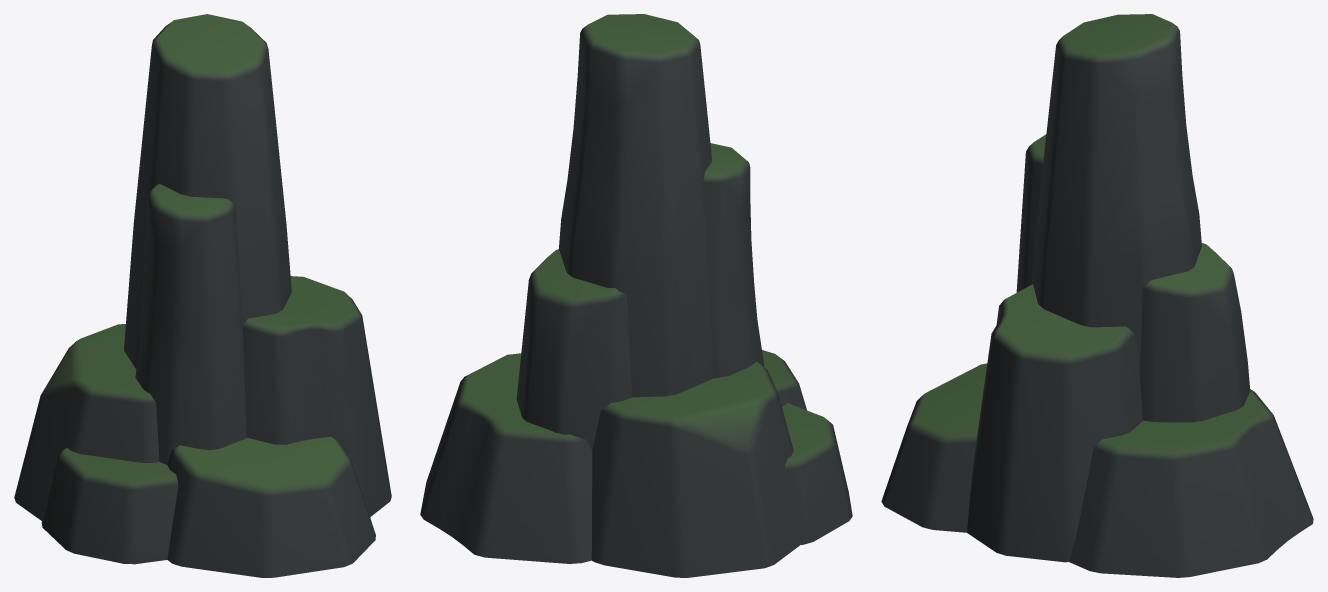
Rendered from rn_cliff.glb.
3 views of the same model, side by side, from view 1: azimuth 30°, elevation 25°; view 2: azimuth 150°, elevation 25°; view 3: azimuth 270°, elevation 25° (orthographic). The views are drawn at different scales.
Visible parts, largest first — view 1: rn_cliff; view 2: rn_cliff; view 3: rn_cliff.
Part boxes in pixels (bbox=[...]): rn_cliff: bbox=[14, 14, 391, 577]; rn_cliff: bbox=[420, 14, 852, 577]; rn_cliff: bbox=[881, 14, 1313, 577].
Size of the model in its own units: 7.16 by 9 by 7.58.
